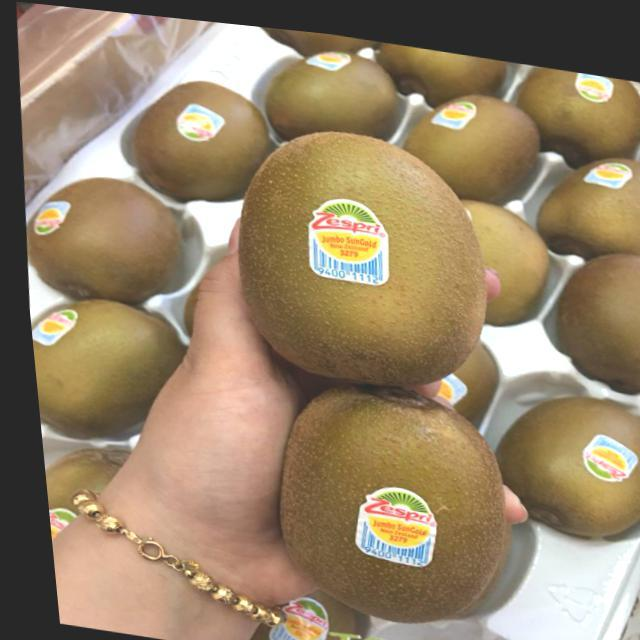kiwi: (229, 114, 508, 388), (244, 365, 510, 640), (495, 362, 640, 549), (18, 159, 187, 308), (23, 283, 182, 438), (384, 62, 540, 192), (133, 67, 262, 202), (539, 225, 640, 385), (258, 37, 410, 136), (595, 132, 618, 241)
